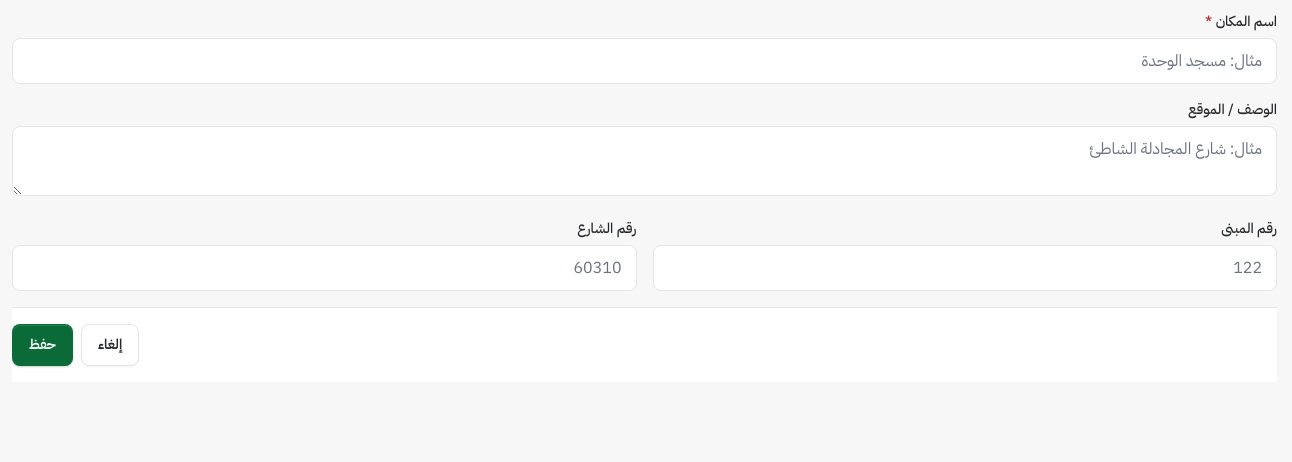
Test: RecordForm › shows server-side field errors in Arabic
This screenshot has width=1292, height=462.
Type "x" into the field labelled "اسم المكان *".
click(644, 61); type("x")  # box left=12, top=38, right=1277, bottom=84
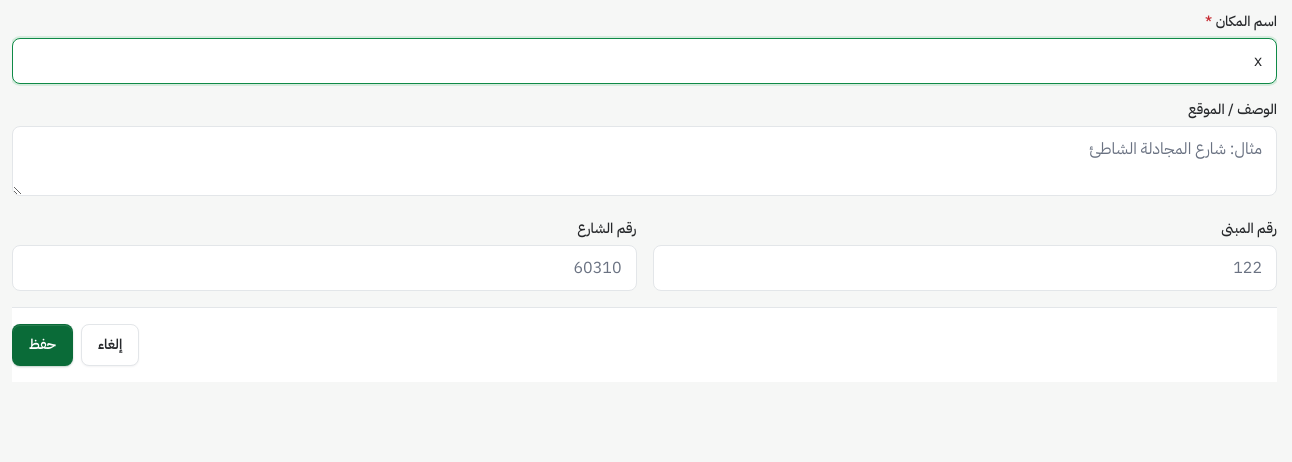
Click the button "حفظ".
click(42, 345)  # box left=12, top=324, right=73, bottom=366
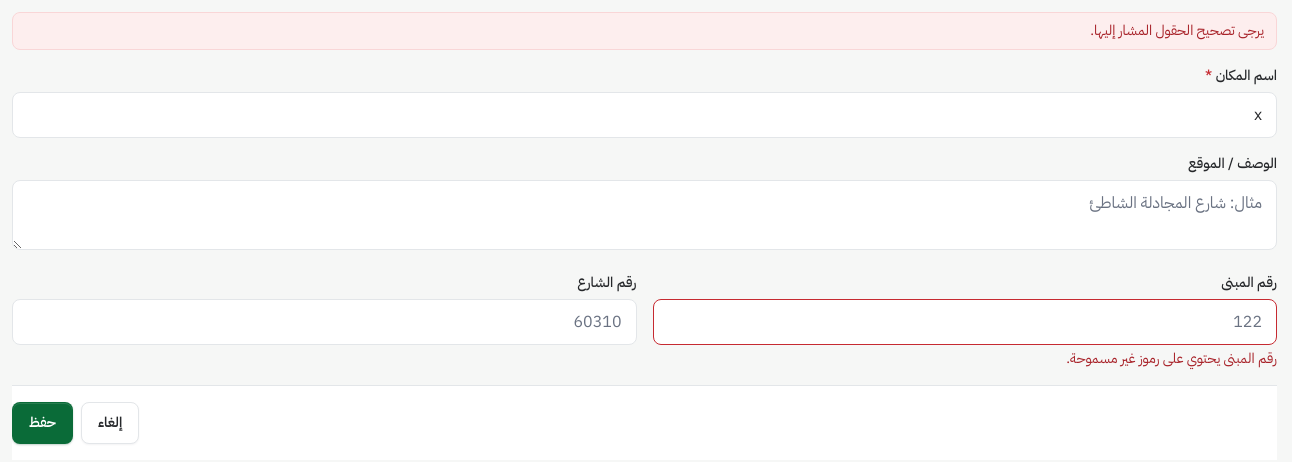
Expected: the text "رقم المبنى يحتوي على رموز غير مسموحة." is shown, left=1066, top=348, right=1277, bottom=369
